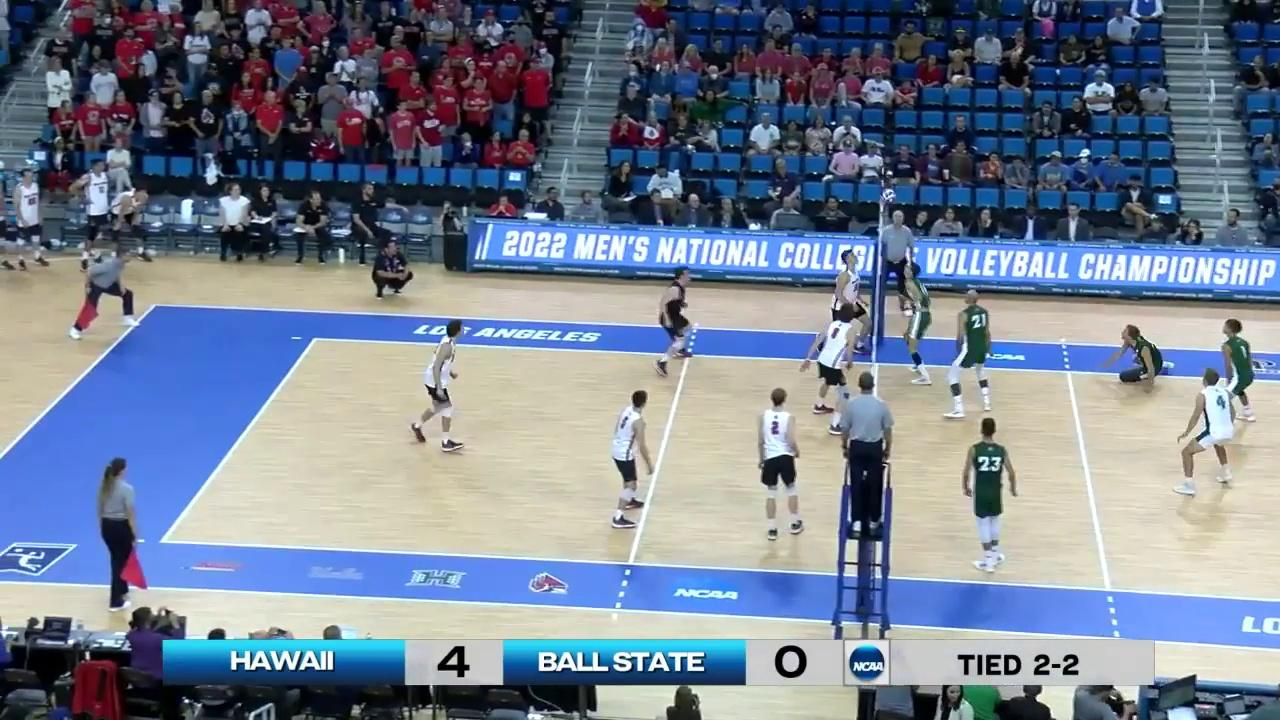player: (961, 420, 1020, 574), (1172, 369, 1234, 495), (754, 389, 804, 539), (605, 389, 652, 525), (947, 289, 996, 418), (415, 324, 464, 450), (811, 305, 858, 434), (815, 248, 867, 360), (1100, 321, 1177, 391), (658, 266, 701, 378), (1217, 319, 1258, 428), (897, 264, 932, 383)
refree: (838, 374, 892, 536), (101, 459, 147, 607), (68, 248, 138, 339), (881, 210, 914, 312)
